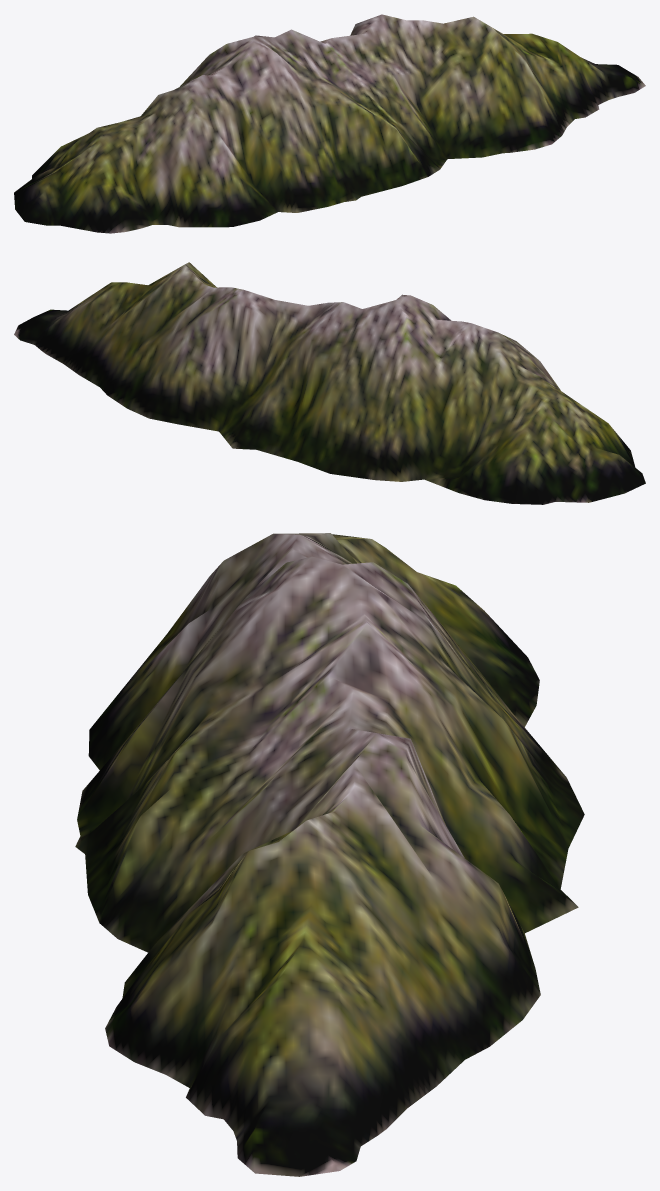
Rendered from Dhz_zsshan_04.FBX.
3 renders of one model, top to bottom at view 1: azimuth 30°, elevation 25°; view 2: azimuth 150°, elevation 25°; view 3: azimuth 270°, elevation 25°, orthographic. The views are drawn at different scales.
Parts seen in each view (by area): view 1: Dhz_zsshan_04; view 2: Dhz_zsshan_04; view 3: Dhz_zsshan_04.
Boxes of the visible parts, x1,y1,x2,y2 form: Dhz_zsshan_04: (14,14,645,233); Dhz_zsshan_04: (14,262,645,504); Dhz_zsshan_04: (75,533,584,1176).
Bounding box in the file's own units: 4.13 × 0.8048 × 1.5.
1 material, 1 textured.
